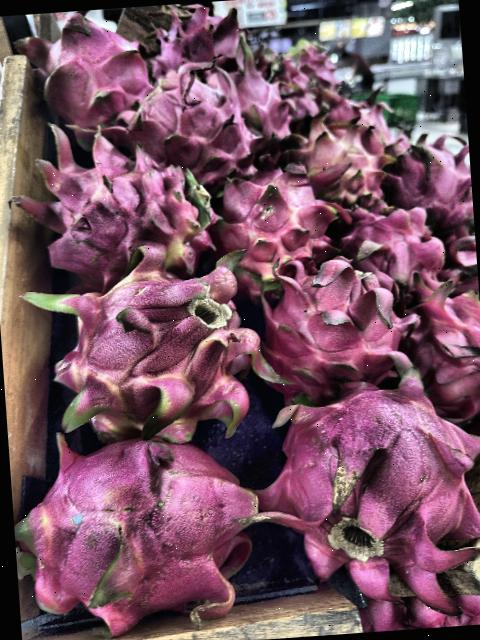buah-naga-belum-matang: (17, 241, 266, 444), (25, 120, 216, 282), (290, 101, 390, 206)
buah-naga-matang: (253, 365, 480, 604), (8, 420, 264, 624), (248, 239, 418, 400), (124, 62, 252, 178), (22, 7, 146, 122), (210, 158, 334, 272), (398, 264, 480, 412), (337, 186, 448, 288), (380, 128, 474, 232), (221, 38, 298, 158), (140, 0, 228, 70), (312, 80, 396, 152)
